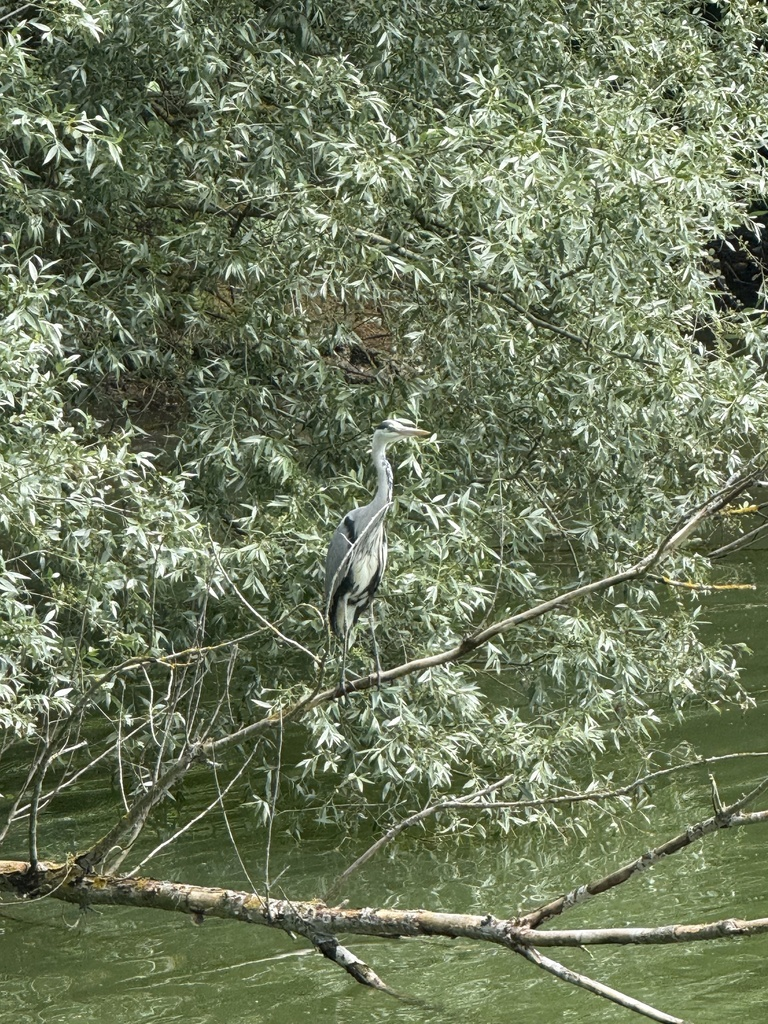heron: (295, 419, 435, 698)
